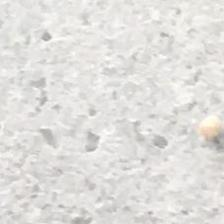Non_Crack: (1, 11, 199, 217)
